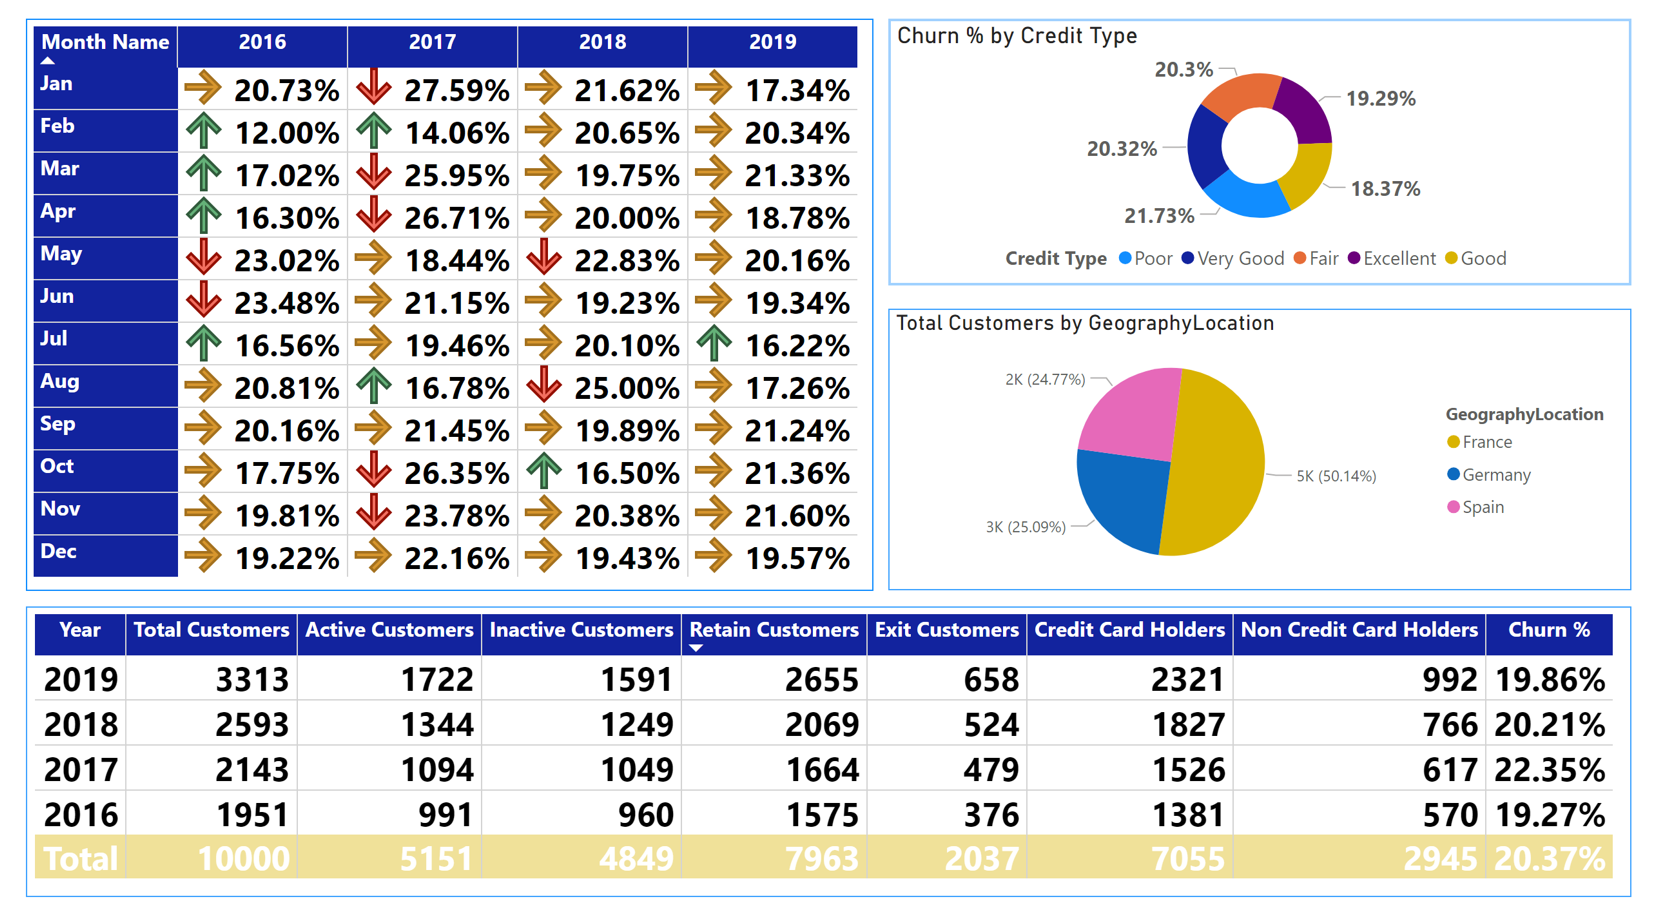

Layout of this report page (visuals, bound fields, positions):
{"tool":"powerbi","page":{"name":"Churn %","canvas":[1280,720],"ordinal":1},"visuals":[{"type":"pivotTable","fields":{"Values":["Calculation.Churn %"],"Rows":["DateMaster.Month Name"],"Columns":["DateMaster.Year"]},"box":[16.6,23.2,657.6,443.9],"z":0},{"type":"pieChart","fields":{"Category":["Geography.GeographyLocation"],"Y":["Calculation.Total Customers"]},"box":[685.8,248.5,576.5,218.7],"z":1000},{"type":"tableEx","fields":{"Values":["DateMaster.Year","Calculation.Total Customers","Calculation.Active Customers","Calculation.Inactive Customers","Calculation.Retain Customers","Calculation.Exit Customers","Calculation.Credit Card Holders","Calculation.Non Credit Card Holders","Calculation.Churn %"]},"box":[16.6,478.7,1245.7,225.3],"z":2000},{"type":"donutChart","fields":{"Y":["Calculation.Churn %"],"Category":["Bank_Churn.Credit Type"]},"box":[685.8,23.2,576.5,207.1],"z":3000}]}

Visuals, with their boxes in screenshot pixels (x1, y1, x2, y2), scaled from the page's 1280x720 canvas onto the 1662x917 screenshot:
pivotTable - Calculation.Churn % x DateMaster.Month Name: [22, 30, 875, 595]
pieChart - Geography.GeographyLocation x Calculation.Total Customers: [890, 316, 1639, 595]
tableEx - DateMaster.Year x Calculation.Total Customers: [22, 610, 1639, 897]
donutChart - Calculation.Churn % x Bank_Churn.Credit Type: [890, 30, 1639, 293]
